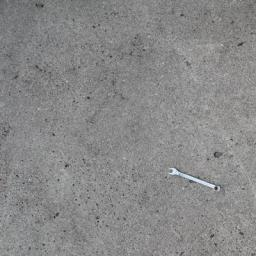FOD: (168, 165, 224, 195)
